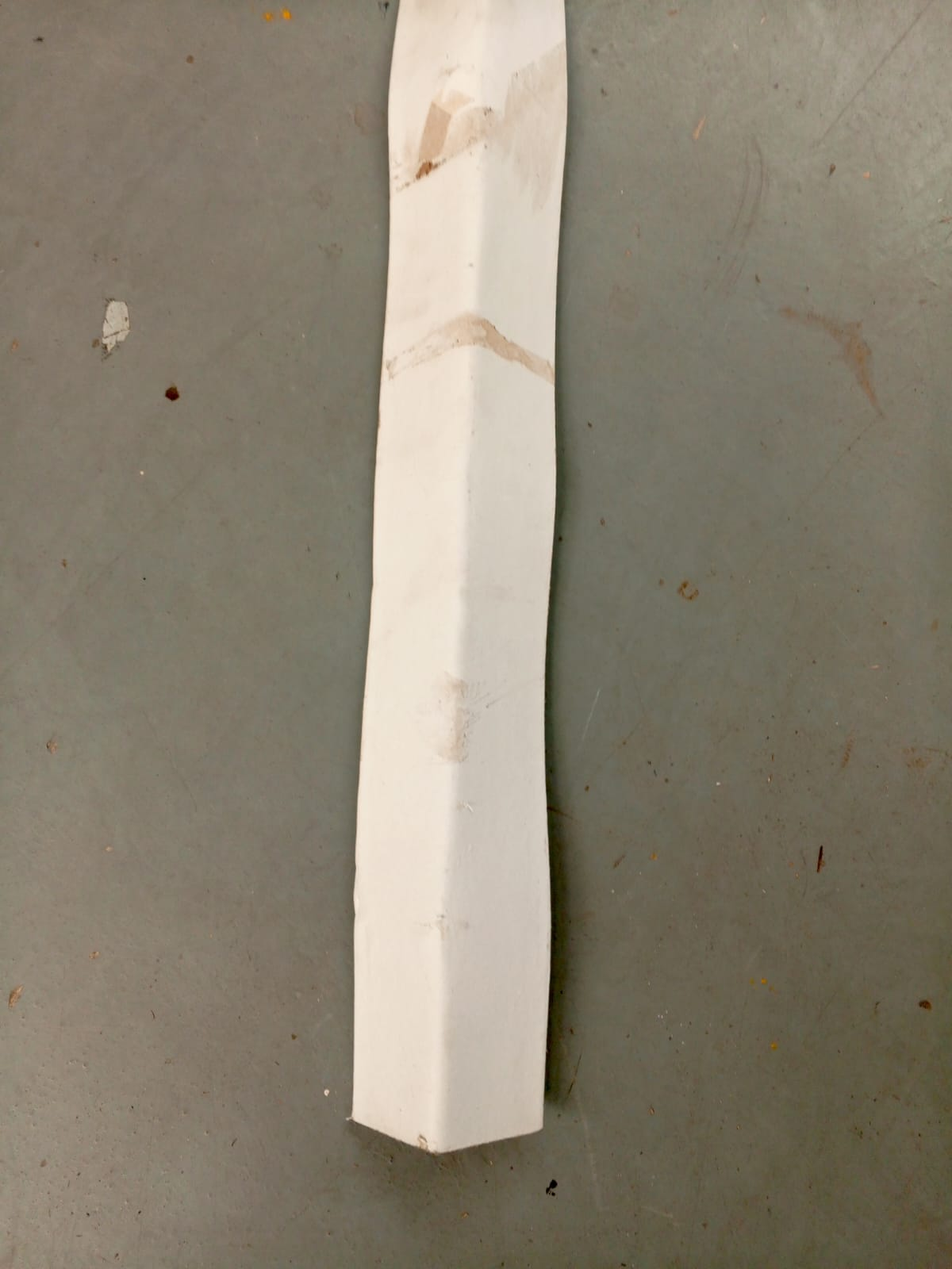Ordinario: (349, 0, 574, 1152)
